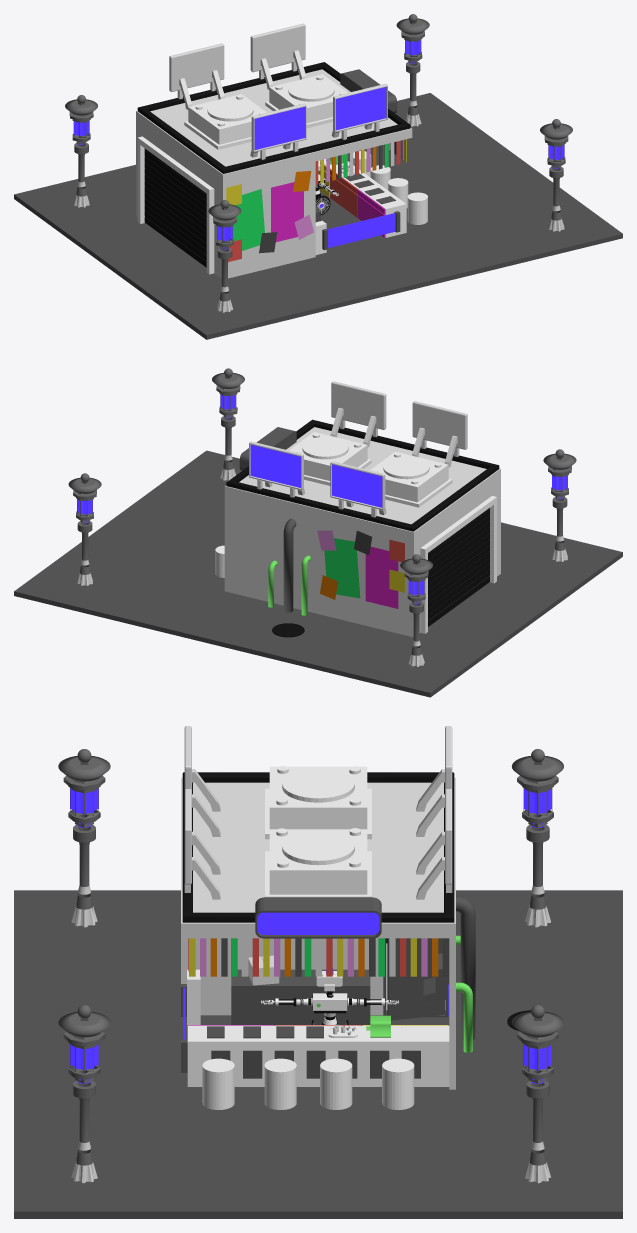
Rendered from sceneV2.gltf.
The picture shows the model from 3 angles, top to bottom: view 1: azimuth 30°, elevation 25°; view 2: azimuth 150°, elevation 25°; view 3: azimuth 270°, elevation 25°; orthographic projection. The views are drawn at different scales.
Parts seen in each view (by area): view 1: Cube, Cube014_1, Cube002, Cube022_1, Cube019_1, Cube044_1, Cube014_2, Cube022, Cube010, Plane013_2, Cylinder, Plane013_1 (+5 smaller); view 2: Cube, Cube014_1, Cube002, Cube022_1, Cube019_1, Cube044_1, Cube014_2, Cube022, Cube010, Plane003_2, Plane003_1, Plane003_8 (+2 smaller); view 3: Cube, Cube014_1, Cube002, Cube019_1, Cube003, Cylinder, Cube022_1, Cube006, Cube014_2, porte001, Cube019_3, Cube019_2 (+14 smaller).
Part boxes in pixels (bbox=[...]): Cube: bbox=[14, 93, 622, 339]; Cube014_1: bbox=[136, 69, 412, 278]; Cube002: bbox=[65, 14, 572, 312]; Cube022_1: bbox=[169, 23, 387, 159]; Cube019_1: bbox=[184, 74, 347, 149]; Cube044_1: bbox=[144, 148, 206, 267]; Cube014_2: bbox=[137, 62, 410, 173]; Cube022: bbox=[254, 87, 386, 149]; Cube010: bbox=[137, 136, 214, 274]; Plane013_2: bbox=[271, 182, 303, 242]; Cylinder: bbox=[353, 151, 427, 224]; Plane013_1: bbox=[233, 189, 264, 250]; Cube: bbox=[14, 450, 622, 697]; Cube014_1: bbox=[224, 427, 500, 637]; Cube002: bbox=[68, 368, 576, 666]; Cube022_1: bbox=[249, 381, 467, 517]; Cube019_1: bbox=[289, 432, 452, 507]; Cube044_1: bbox=[428, 508, 489, 626]; Cube014_2: bbox=[226, 419, 499, 531]; Cube022: bbox=[250, 444, 382, 507]; Cube010: bbox=[420, 496, 496, 633]; Plane003_2: bbox=[365, 546, 398, 608]; Plane003_1: bbox=[324, 538, 360, 598]; Plane003_8: bbox=[283, 518, 296, 612]; Cube: bbox=[14, 890, 622, 1218]; Cube014_1: bbox=[181, 777, 455, 1089]; Cube002: bbox=[58, 749, 563, 1183]; Cube019_1: bbox=[265, 766, 371, 897]; Cube003: bbox=[187, 1025, 449, 1086]; Cylinder: bbox=[202, 1058, 414, 1109]; Cube022_1: bbox=[184, 726, 452, 899]; Cube006: bbox=[231, 969, 370, 1025]; Cube014_2: bbox=[182, 772, 454, 922]; porte001: bbox=[387, 938, 444, 1020]; Cube019_3: bbox=[257, 912, 379, 934]; Cube019_2: bbox=[255, 897, 381, 938].
Size of the model in its own units: 15.63 by 5.67 by 12.51.
